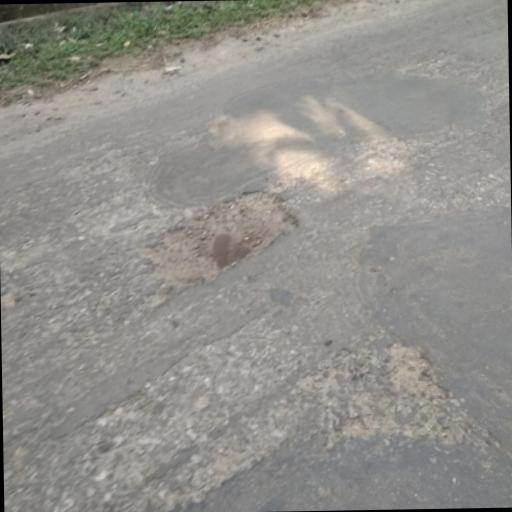pothole: (134, 188, 304, 294), (385, 336, 452, 404)
